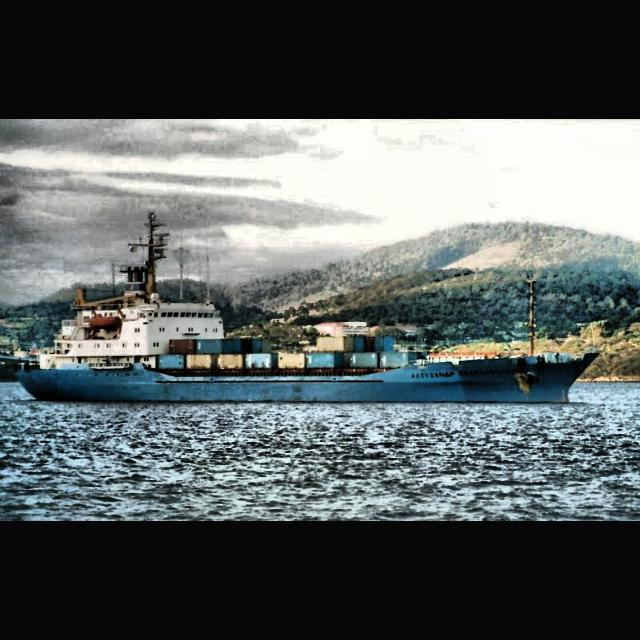container: (14, 276, 600, 402)
